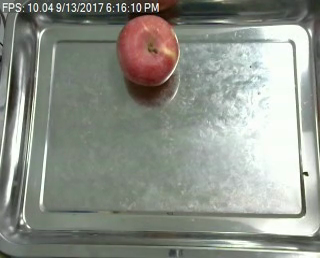Apple: (116, 13, 181, 86)
